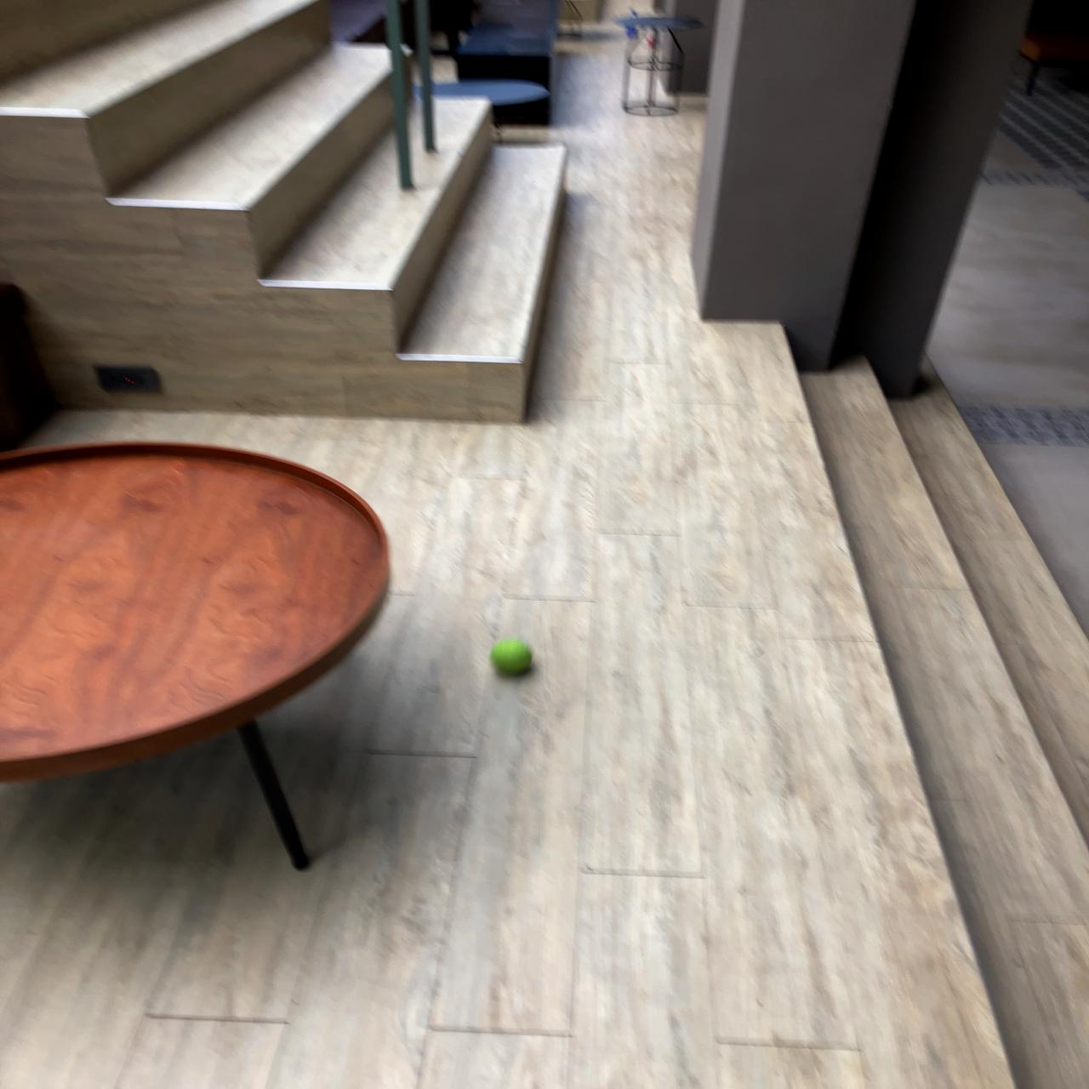tennisball: (491, 640, 532, 676)
